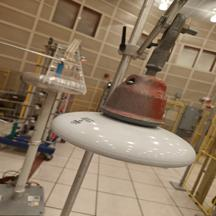insulator: (44, 66, 204, 171)
